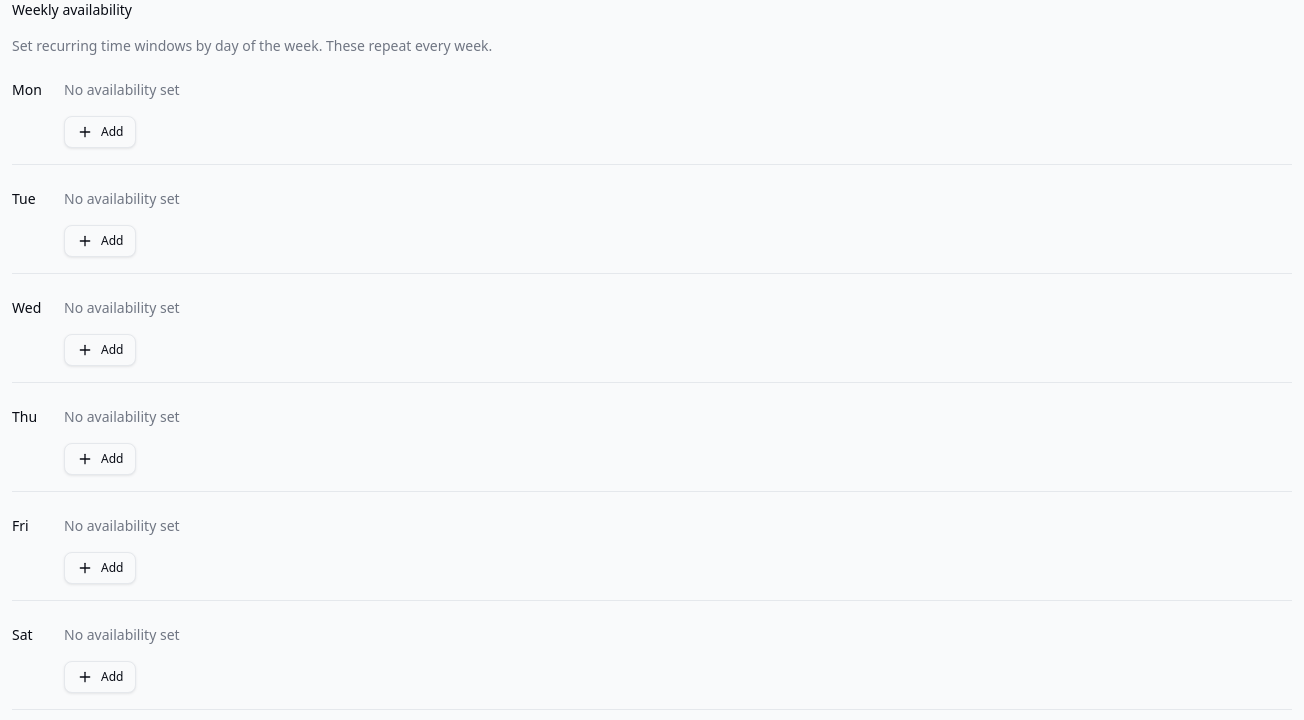
it: AvailabilityEditor › pending state › submit button is disabled while saving
The width and height of the screenshot is (1304, 720).
Click the button "Add" below "Mon" at (100, 132), box x1=64 y1=116 x2=136 y2=148
(page scrolled)
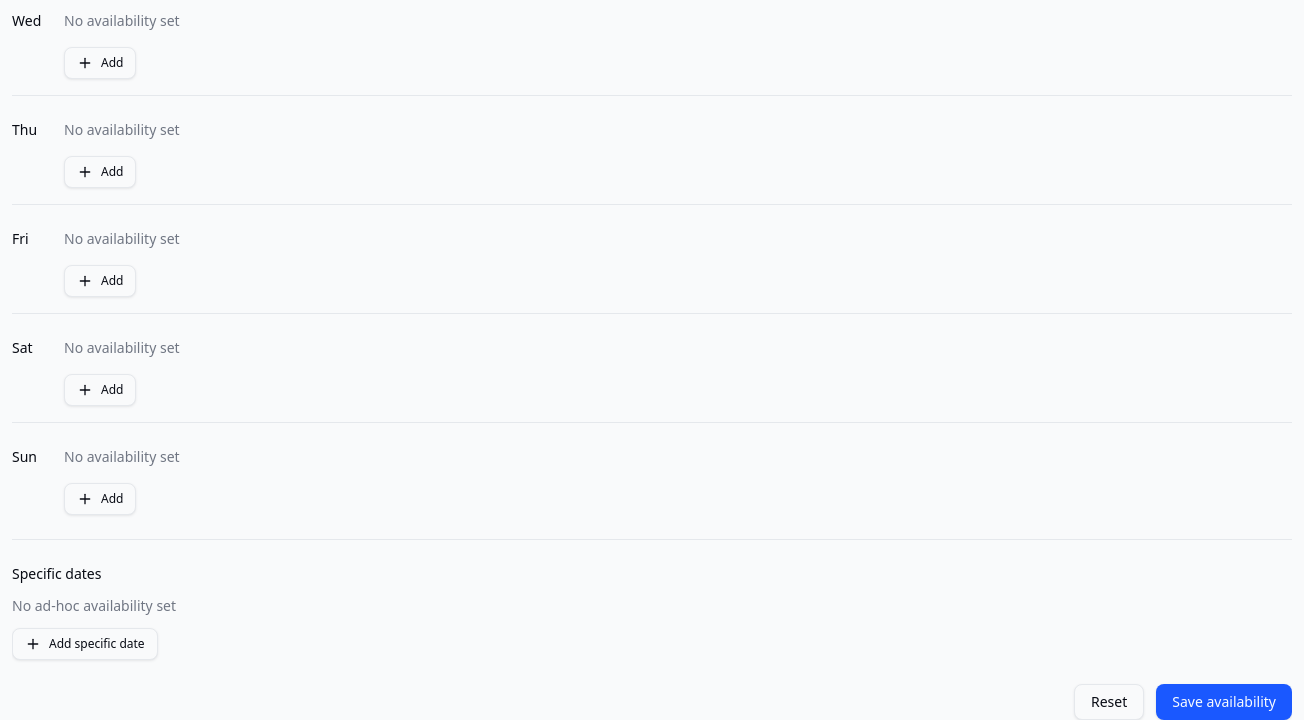
Click the button "Save availability" at (1224, 702), box x1=1156 y1=684 x2=1292 y2=719
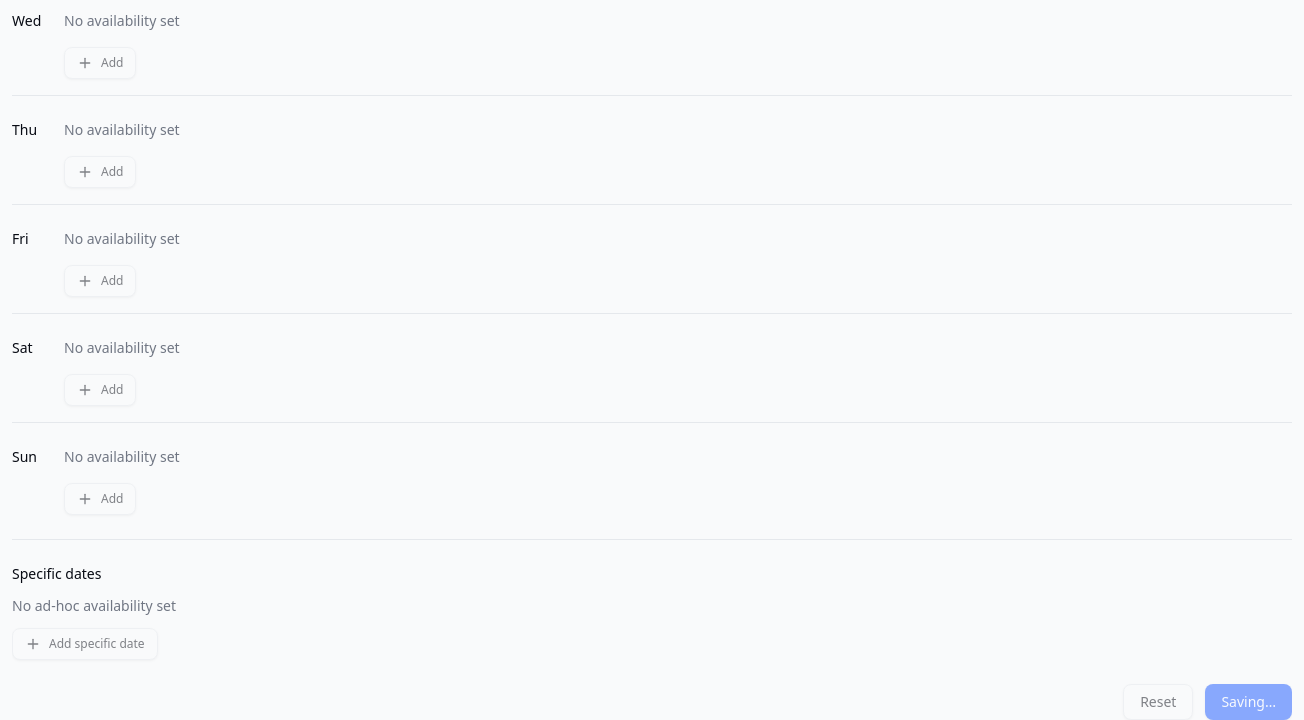
Now the button "Saving…" is disabled, box x1=1205 y1=684 x2=1292 y2=719
